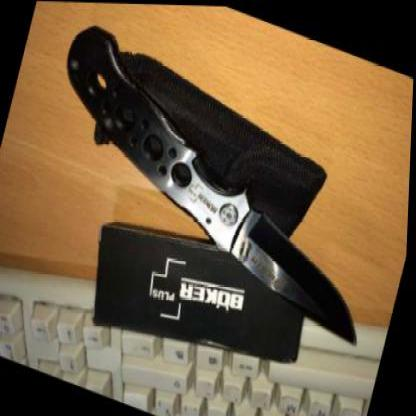knife: (199, 174, 394, 350)
